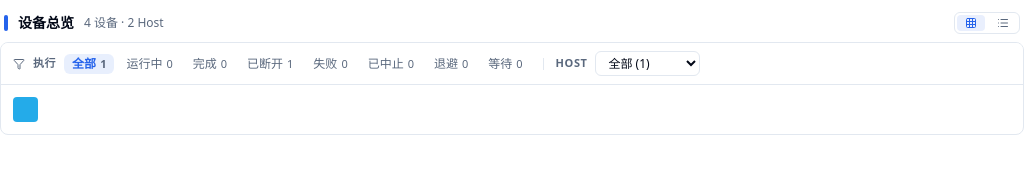
DeviceOverview › shows grace countdown in wait column for unknown devices
Click the button with test id "device-overview-table-btn": (1003, 23) [989, 15, 1017, 31]
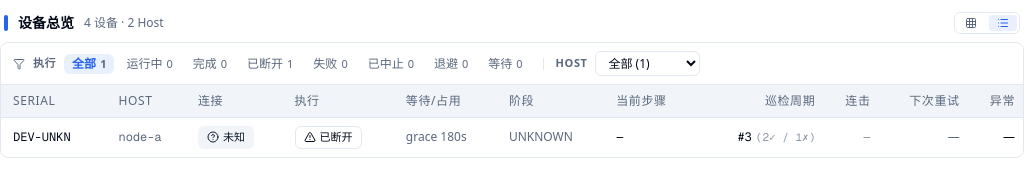
Expected: the cell with test id "device-wait-3009" reads "grace 180s", [406, 128, 467, 145]
